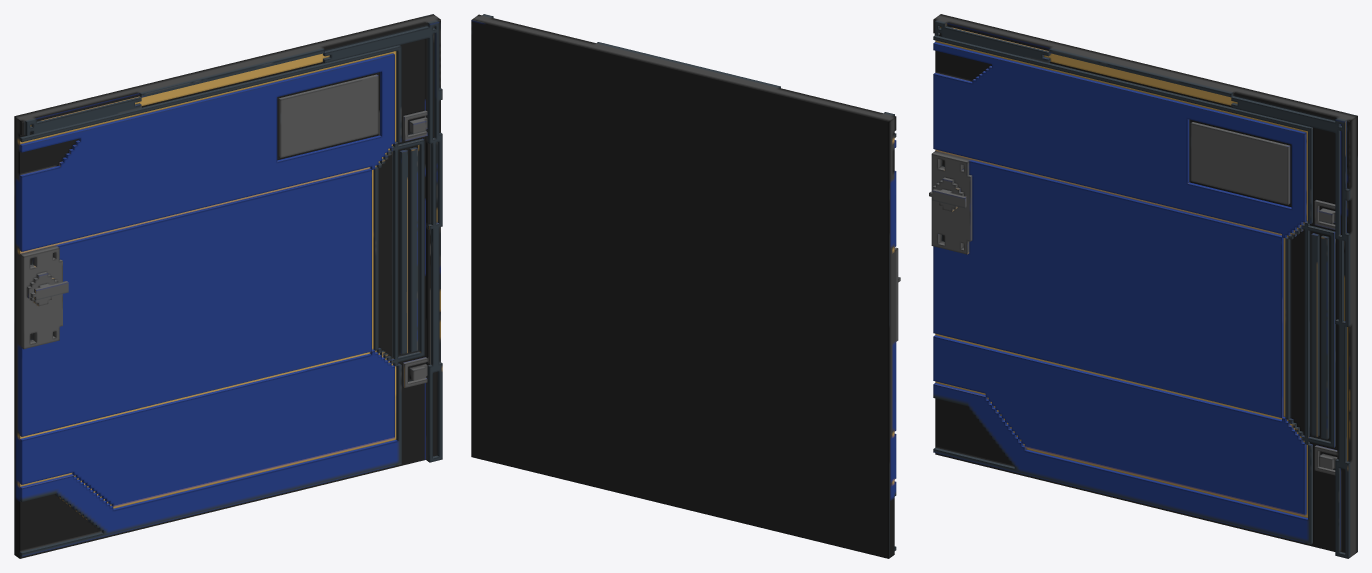
File: DoorsRight.fbx
3 views of the same model, side by side, from view 1: azimuth 30°, elevation 25°; view 2: azimuth 150°, elevation 25°; view 3: azimuth 330°, elevation 25° (orthographic).
Parts seen in each view (by area): view 1: DoorsRight.001; view 2: DoorsRight.001; view 3: DoorsRight.001.
Part boxes in pixels (x1=…): DoorsRight.001: x1=14, y1=14, x2=442, y2=558; DoorsRight.001: x1=471, y1=14, x2=900, y2=558; DoorsRight.001: x1=929, y1=14, x2=1357, y2=558.
Bounding box in the file's own units: 12.8 × 12.8 × 0.8.
1 material, 1 textured.
